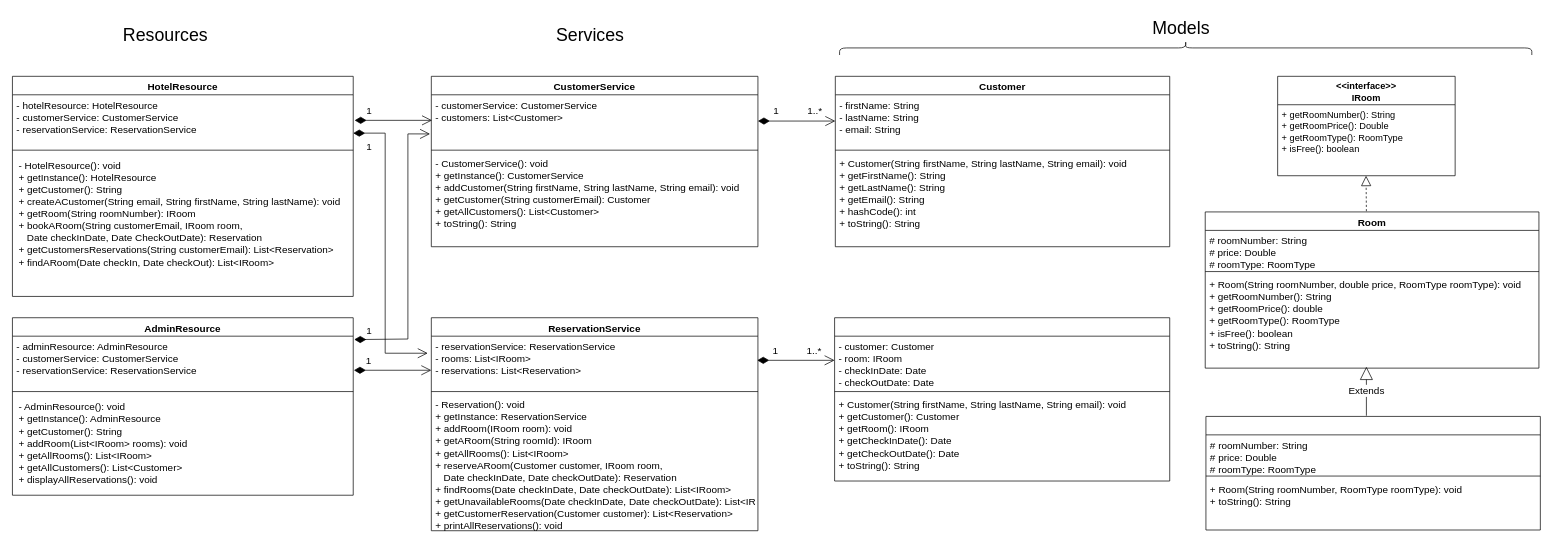
This 1553x545 diagram has some shape labels left out. Here are the shapes that lost their labels. From the top down, the box of each, then its label:
(834, 317, 1170, 481): Reservation
(1205, 416, 1540, 530): FreeRoom
